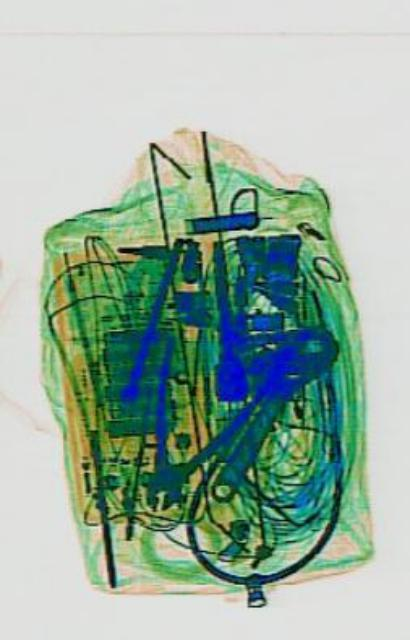Pliers: (111, 319, 259, 545)
Wrench: (200, 312, 337, 516)
